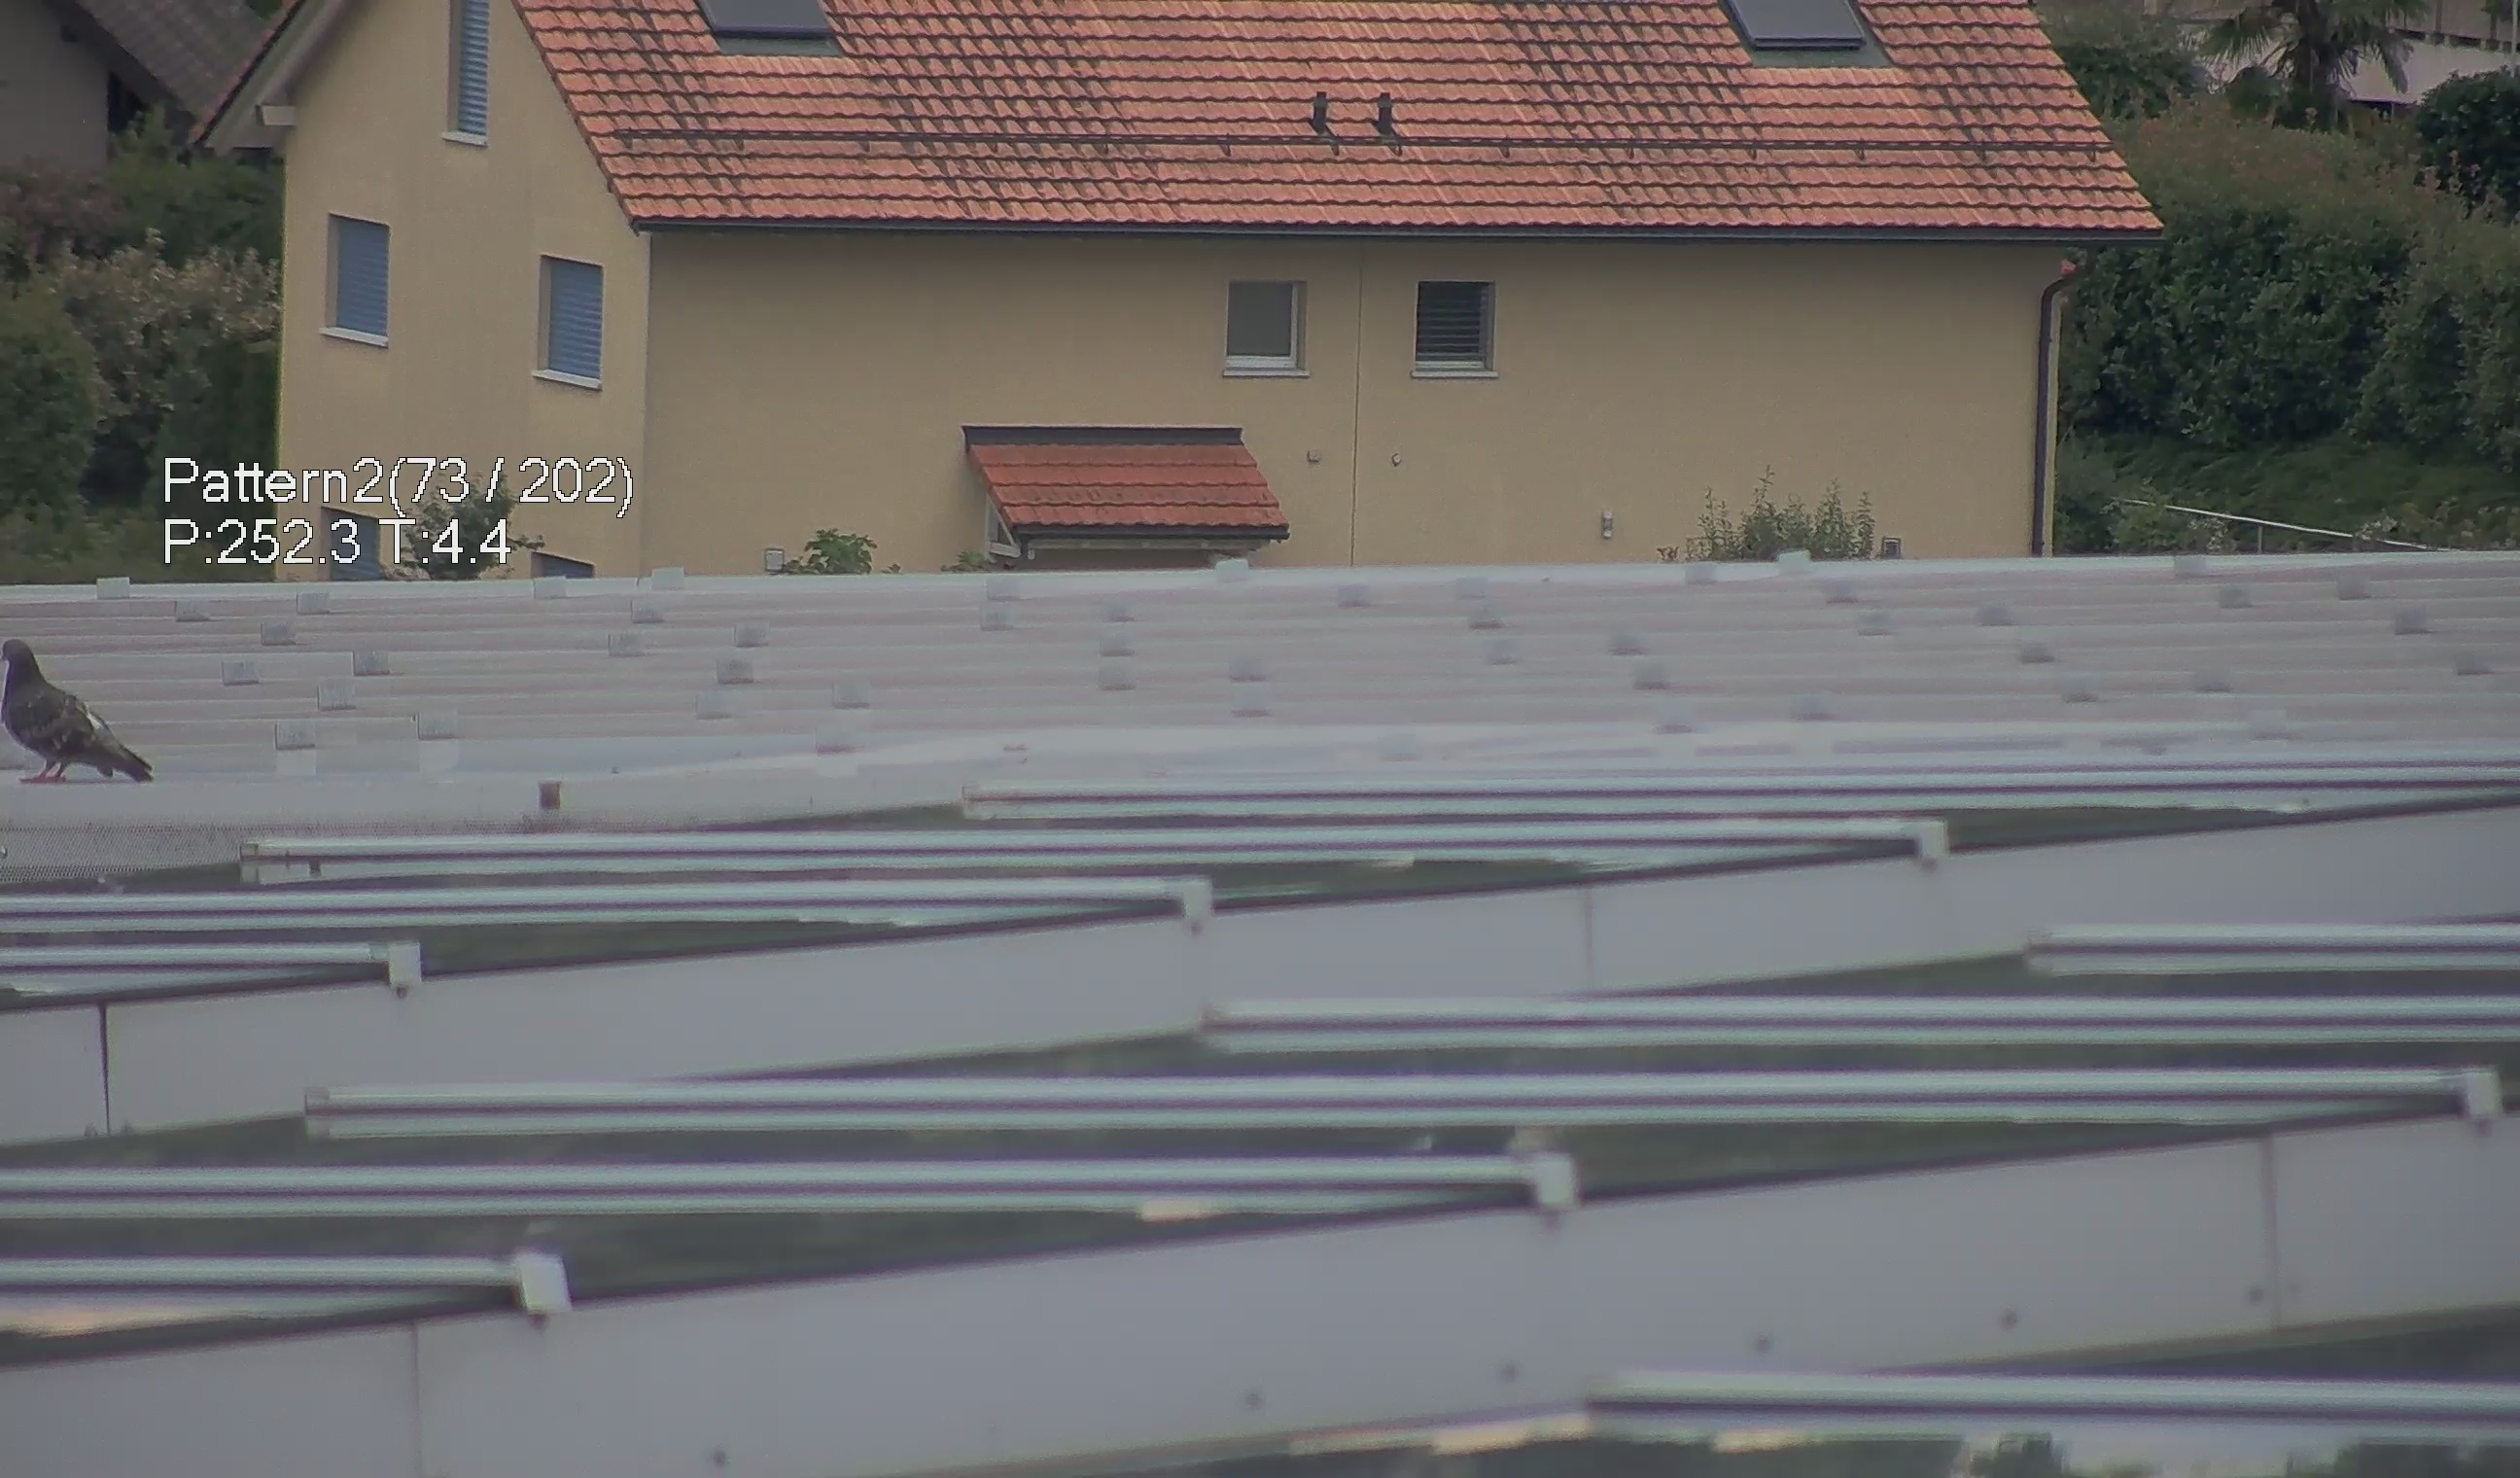Pigeon: (0, 632, 153, 794)
